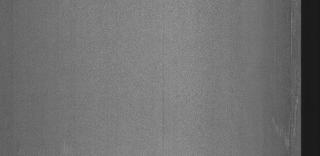silk spot: (271, 88, 299, 150)
